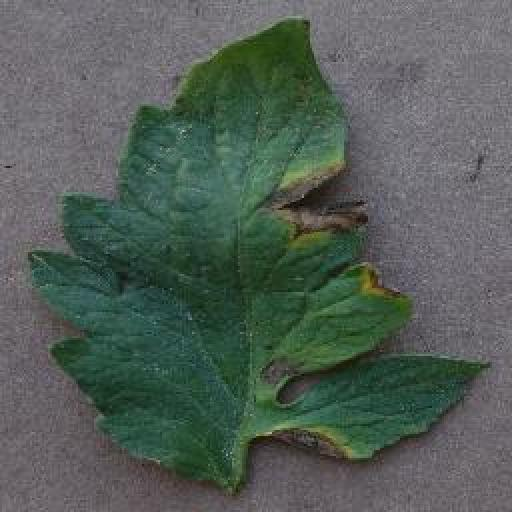disease_tomato: (33, 13, 488, 496)
